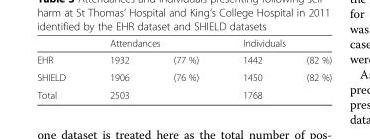table: (36, 37, 331, 100)
table column: (150, 37, 220, 100), (87, 37, 150, 100), (220, 37, 283, 100), (36, 37, 87, 100), (283, 37, 331, 100)
table column header: (36, 37, 331, 68)
table row: (36, 51, 331, 68), (36, 68, 331, 85), (36, 85, 331, 100), (36, 37, 331, 51)
table spanning cell: (87, 37, 220, 51), (36, 37, 87, 68), (220, 37, 331, 51)
